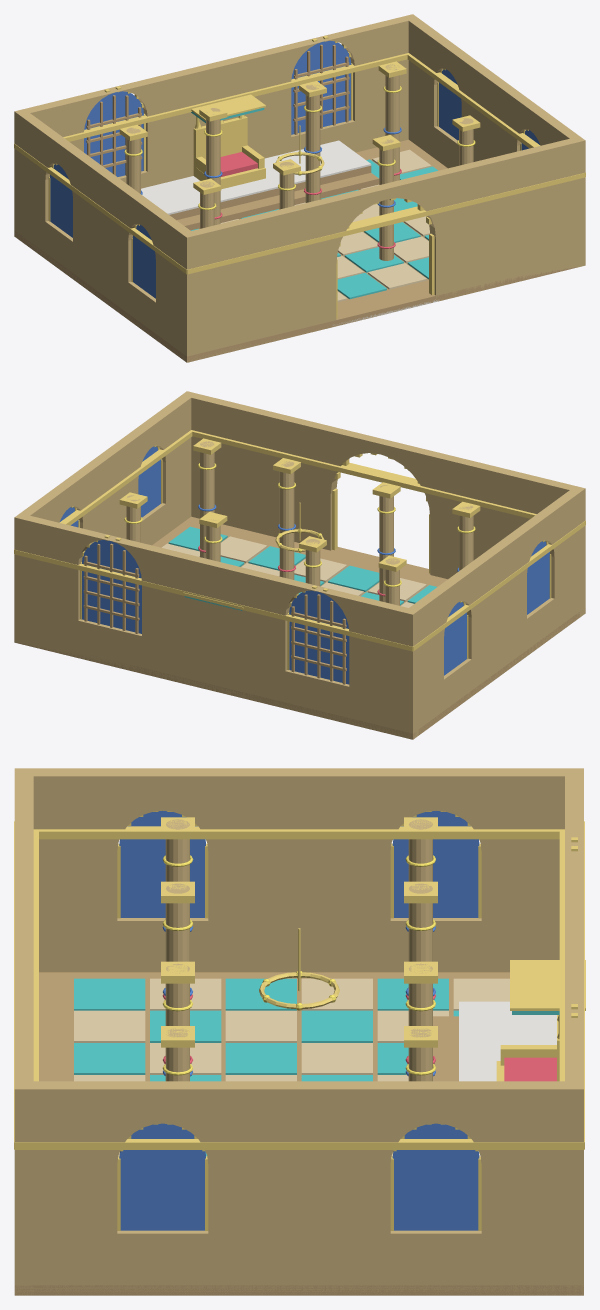
The model's file is room_darbar_hall.glb.
3 renders of one model, top to bottom at view 1: azimuth 30°, elevation 25°; view 2: azimuth 150°, elevation 25°; view 3: azimuth 270°, elevation 25°, orthographic. The views are drawn at different scales.
Visible parts, largest first — view 1: Room_DarbarHall; view 2: Room_DarbarHall; view 3: Room_DarbarHall.
Boxes of the visible parts, <box> form: Room_DarbarHall: <box>14,14,585,362</box>; Room_DarbarHall: <box>14,391,585,739</box>; Room_DarbarHall: <box>14,768,585,1295</box>.
Bounding box in the file's own units: 20.04 × 6.07 × 15.07.
